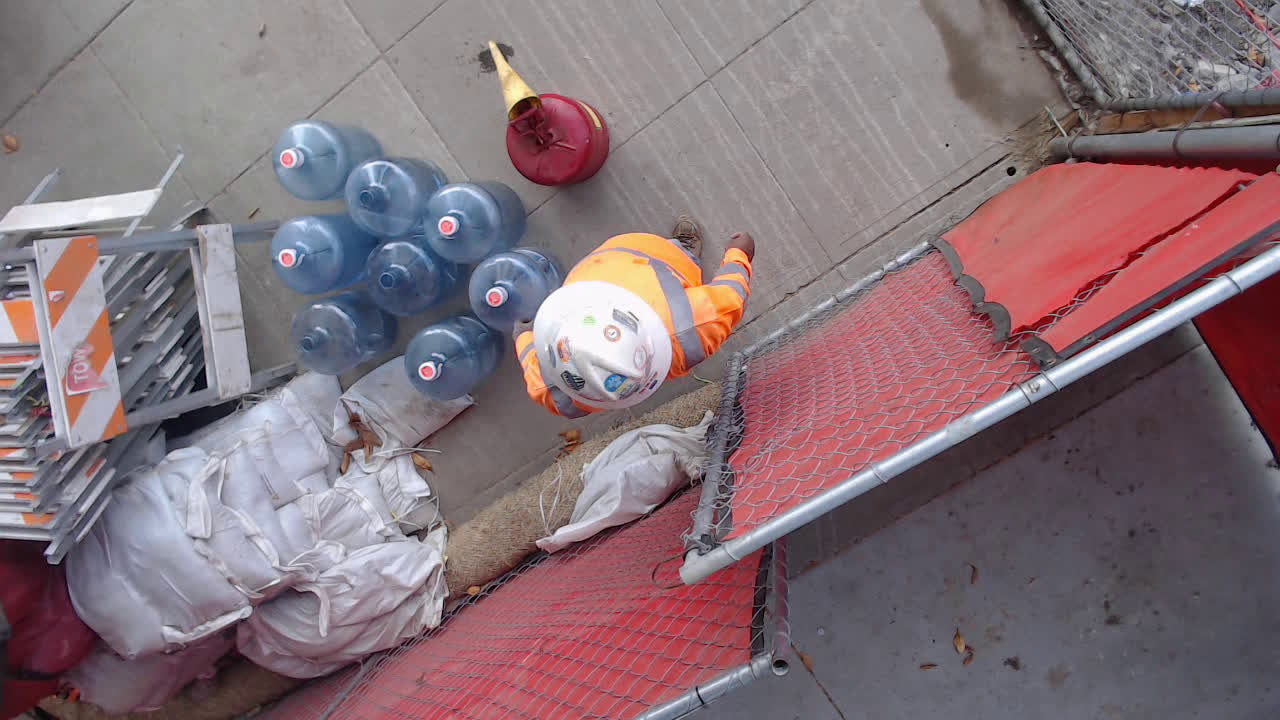hardhat: (531, 281, 673, 412)
safetyvest: (517, 229, 756, 422)
